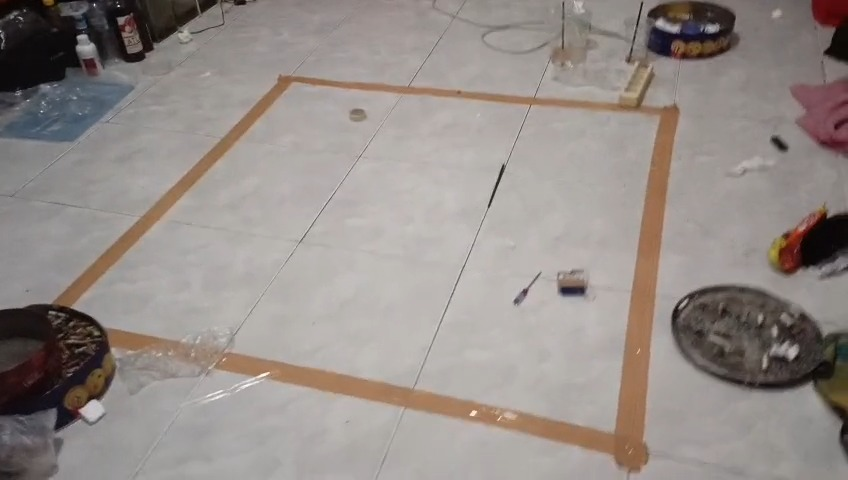floor marking: (217, 106, 678, 472), (55, 75, 627, 304)
